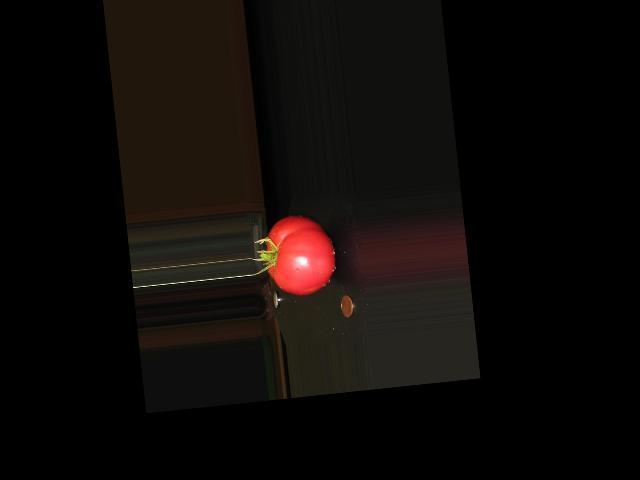tomato: (262, 211, 339, 298)
